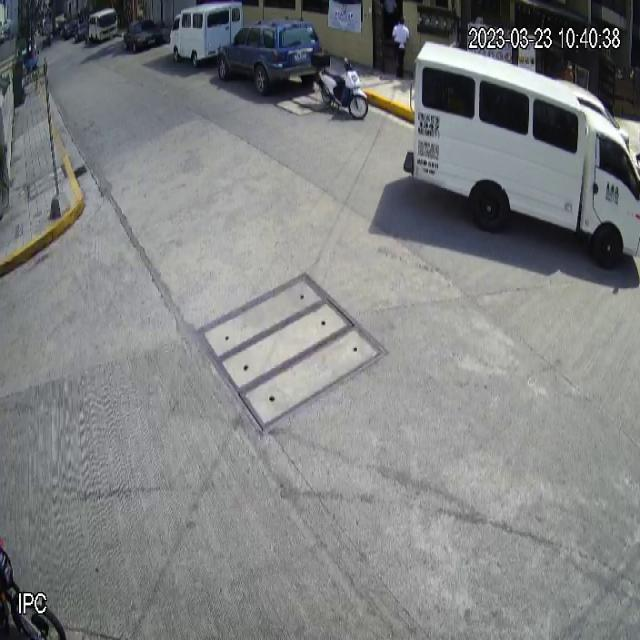Car: (216, 16, 323, 96)
Motorcycle: (311, 52, 369, 120)
Van: (403, 36, 639, 271), (169, 2, 243, 69)
